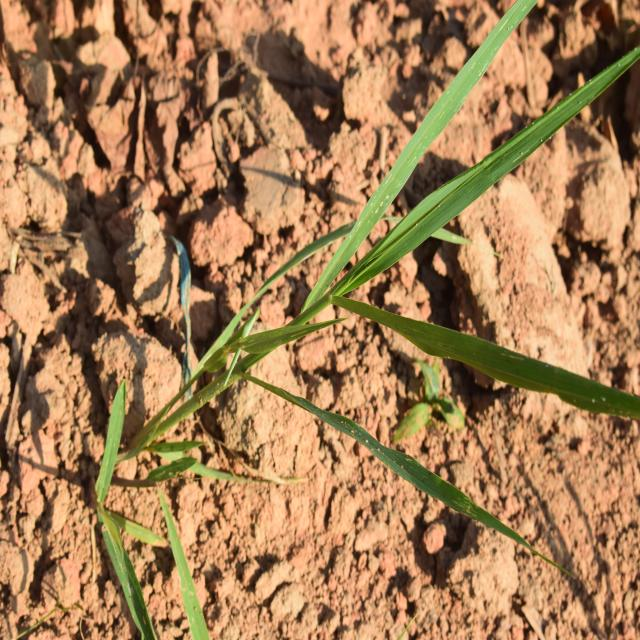green_foxtail: (184, 85, 589, 548)
